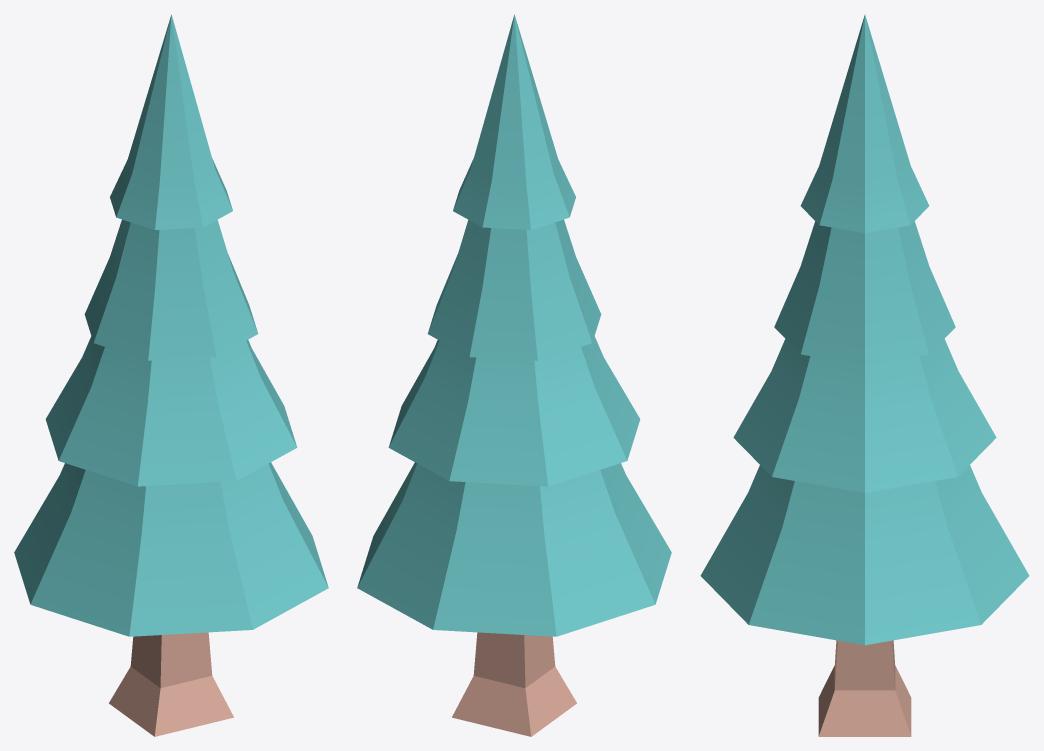
The model's file is tree_pineRoundE.gltf.
The picture shows the model from 3 angles, left to right: view 1: azimuth 30°, elevation 25°; view 2: azimuth 150°, elevation 25°; view 3: azimuth 270°, elevation 25°; orthographic projection.
Visible parts, largest first — view 1: tree_pineRoundE; view 2: tree_pineRoundE; view 3: tree_pineRoundE.
Part boxes in pixels (x1,y1,x2,y2): tree_pineRoundE: (14, 14, 328, 736); tree_pineRoundE: (357, 14, 671, 736); tree_pineRoundE: (700, 15, 1029, 736).
Bounding box in the file's own units: 0.532 × 1.25 × 0.532.
